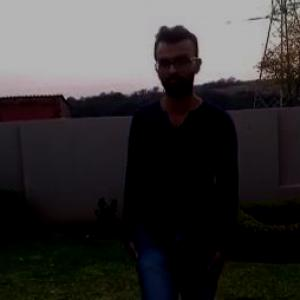follow: (109, 18, 243, 299)
